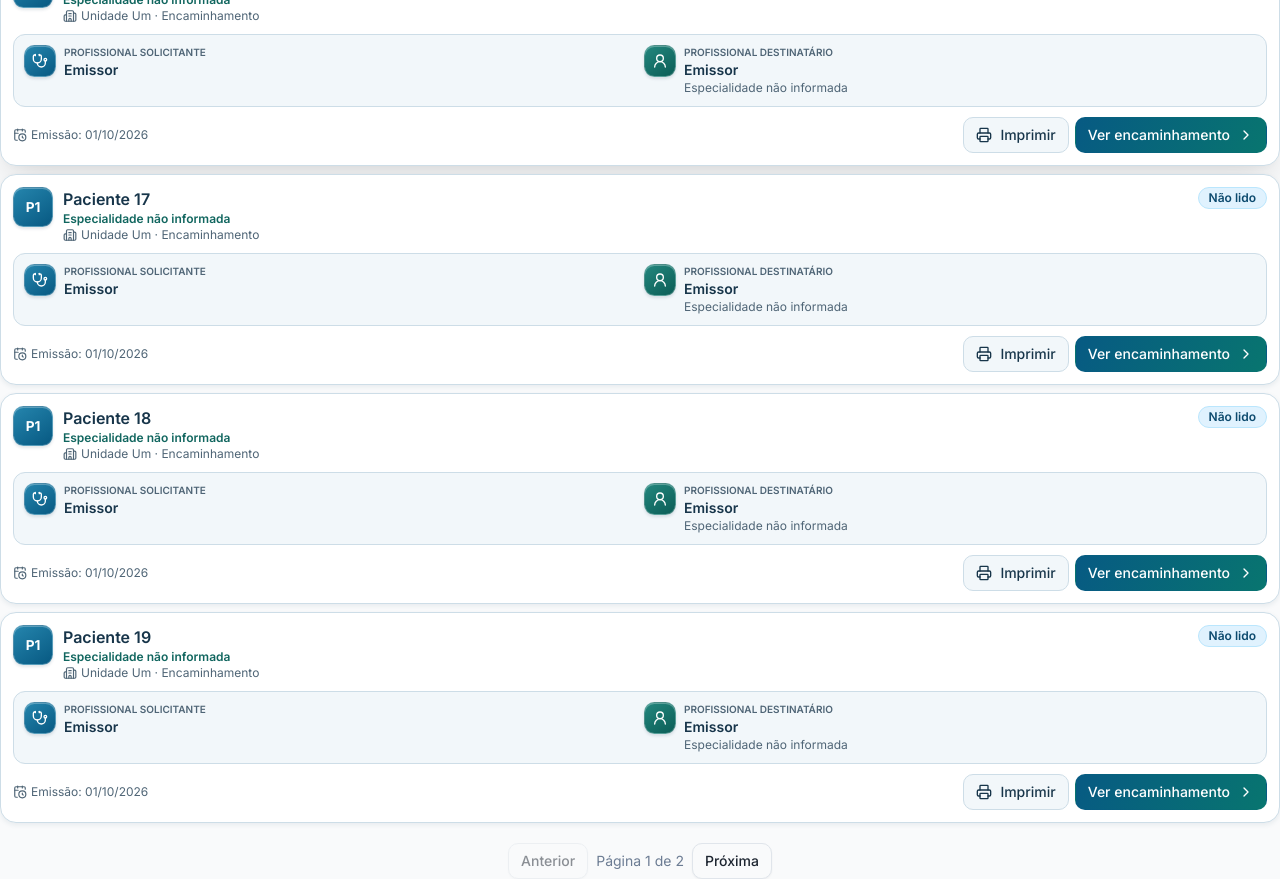
document-only referrals page › debounces filters, clamps pagination and never reloads every 30 seconds
Later steps or results of the test are not shown.
(page scrolled)
Click the button "Próxima": (732, 861) [692,843,772,878]
(page scrolled)
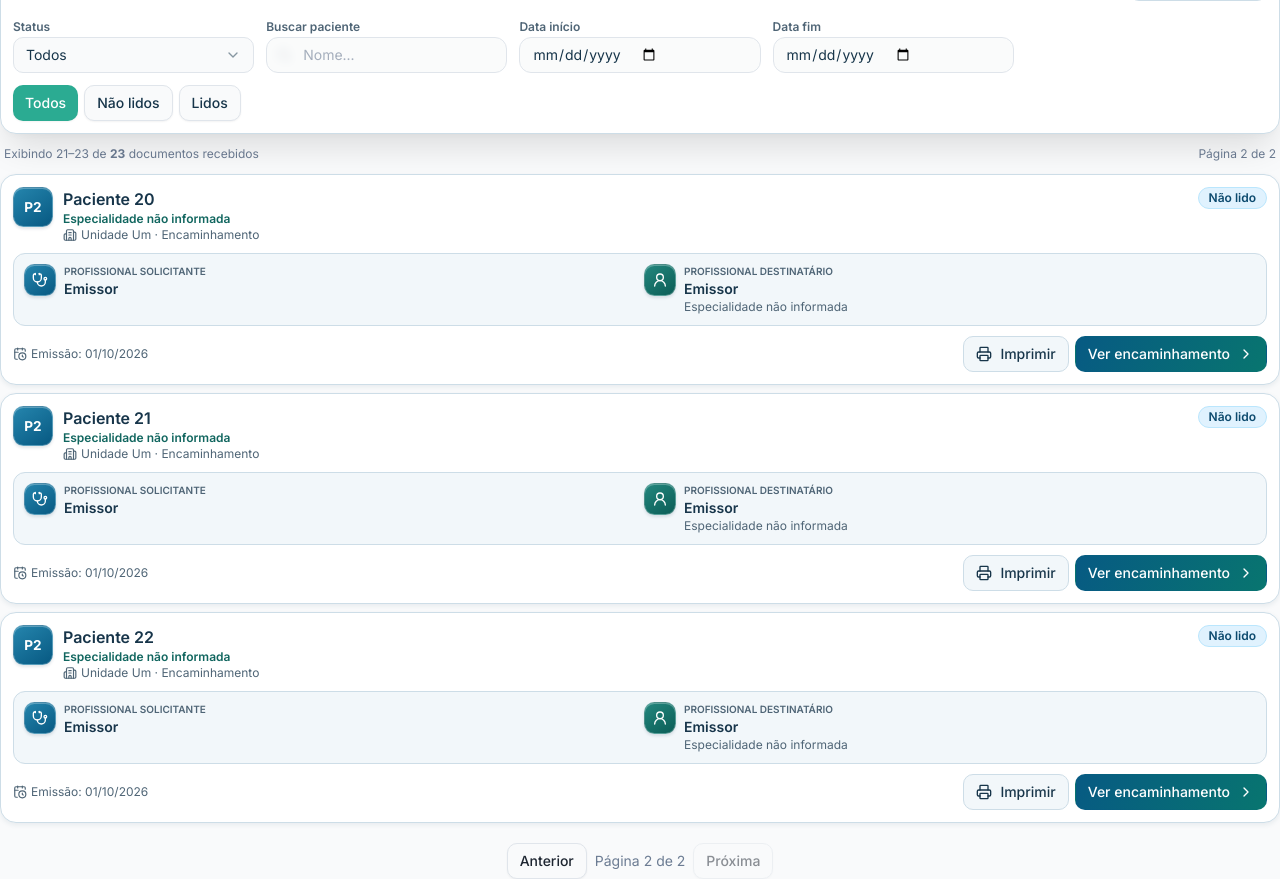
Expected: the text "Página 2 de 2" is shown 2 times, [1198,146,1276,162]; [595,851,685,871]
In the field named "Buscar paciente nos recebidos": (387, 55) [266,37,507,73], type "Paciente 01"
Wait 31360 ms
(page scrolled)
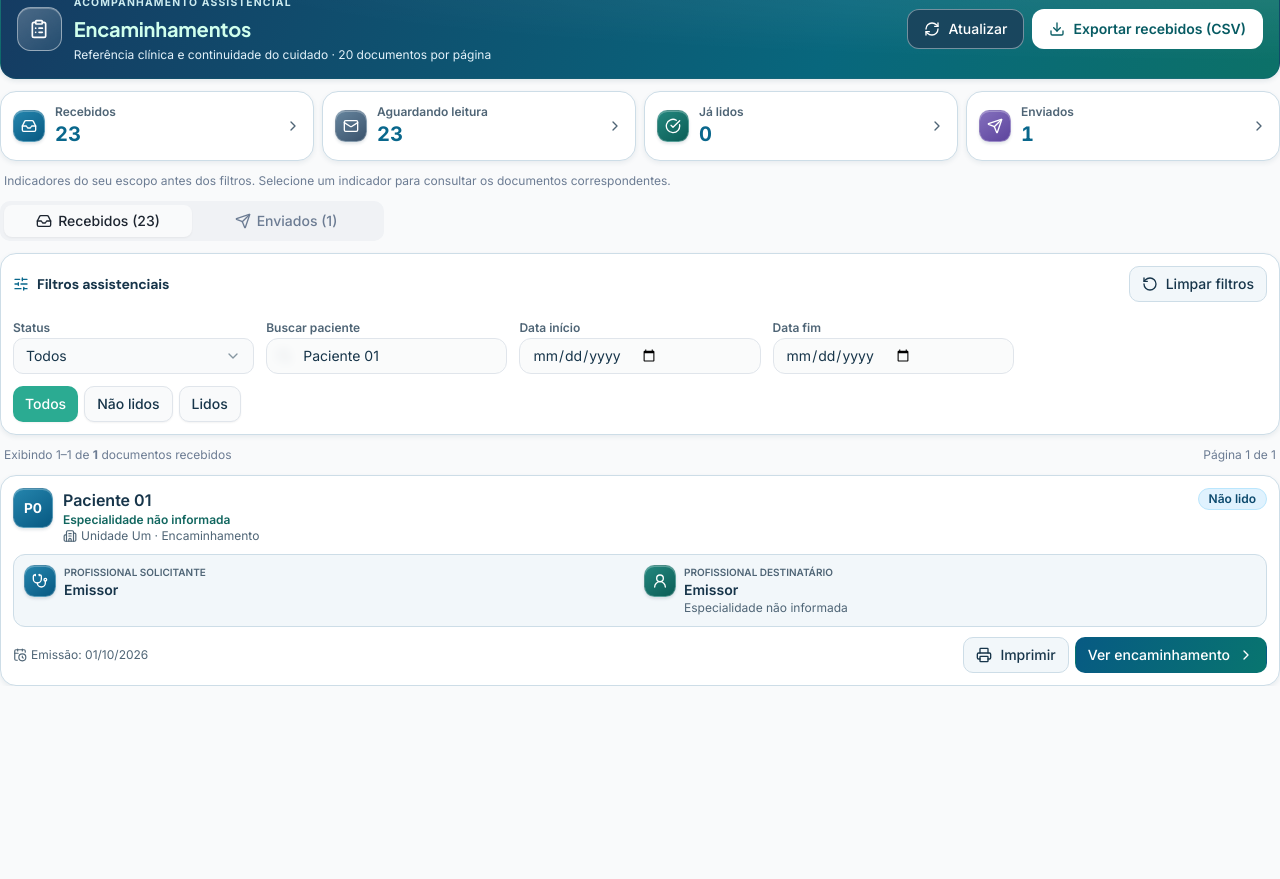
Now the text "Paciente 01" is shown, box [63,490,151,510]
Now the text "Paciente 22" is gone
